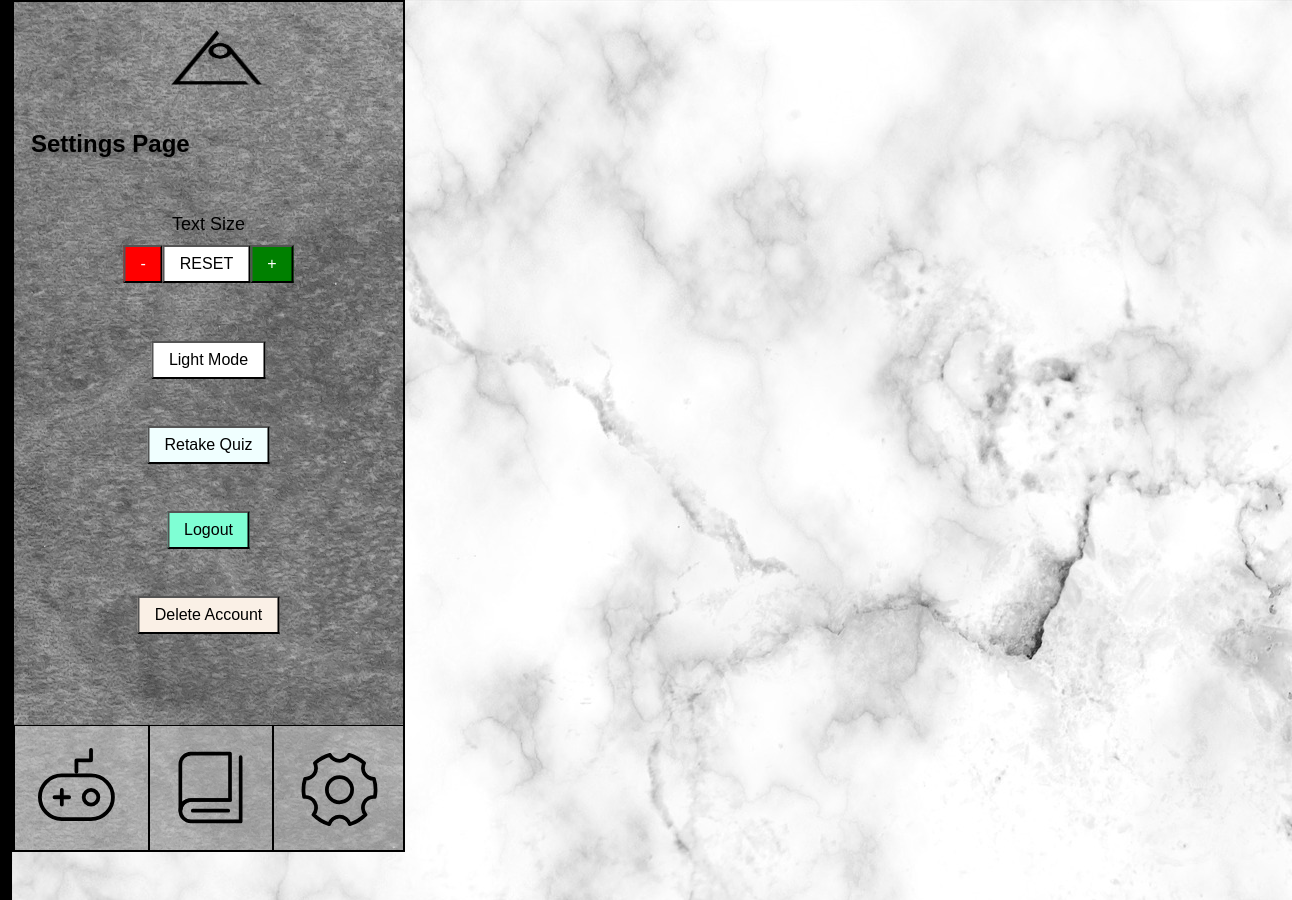
Test case: SettingsPage Component › hides delete account popup when cancel button is clicked
Click the button "Delete Account" at x=208, y=615, box [138,596,279,634]
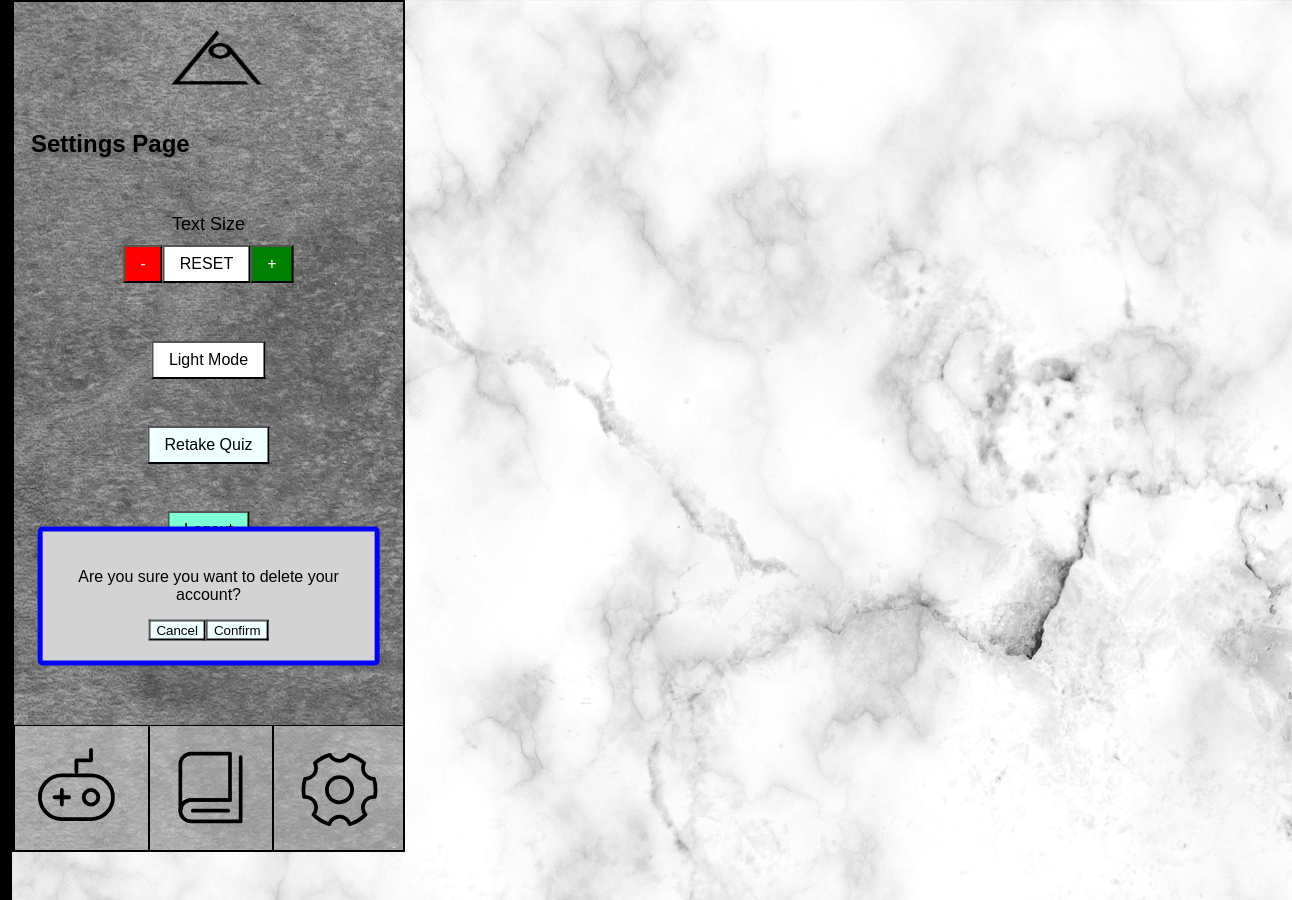
Click the button "Cancel" at x=177, y=630, box [148,619,206,640]
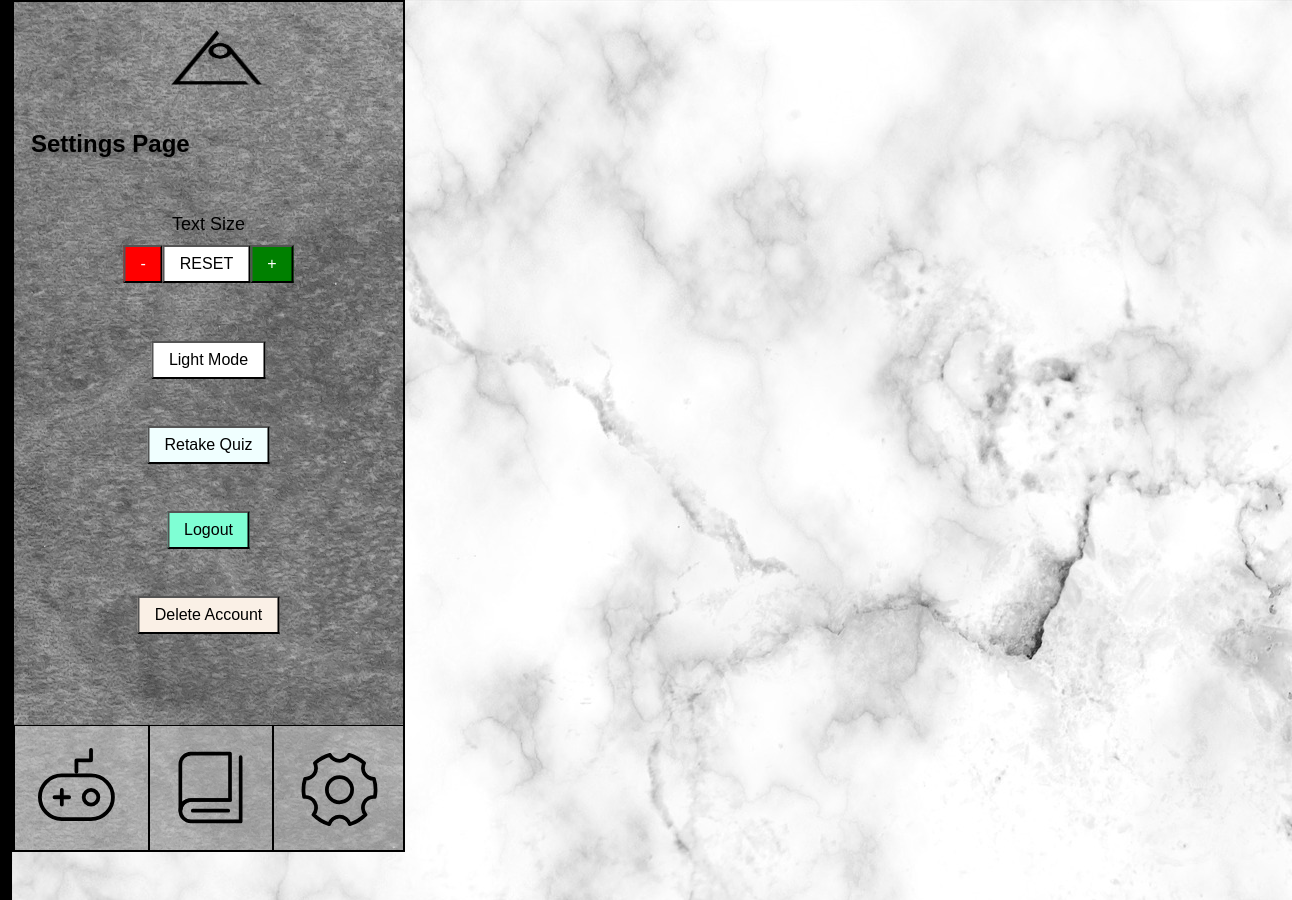
Now the element with test id "delete-account-popup" is gone
